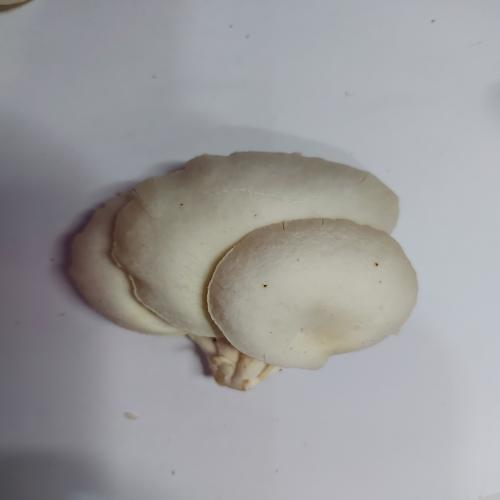Oyster Mushroom: (66, 150, 419, 392)
